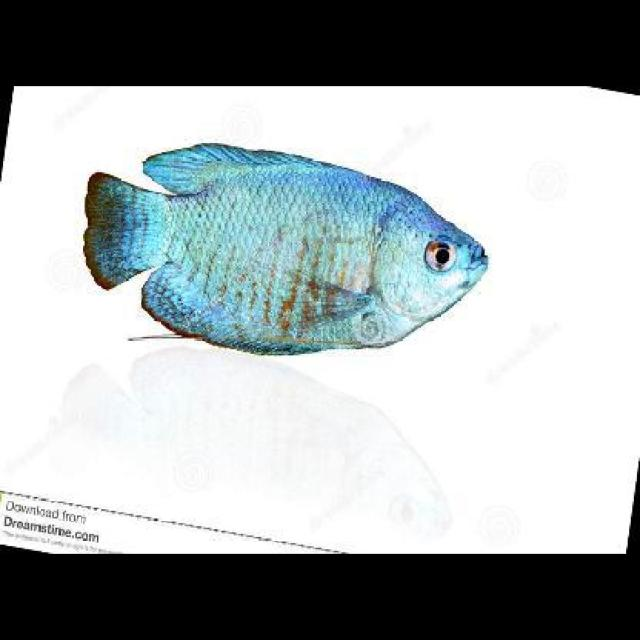Gourami: (81, 123, 488, 354)
